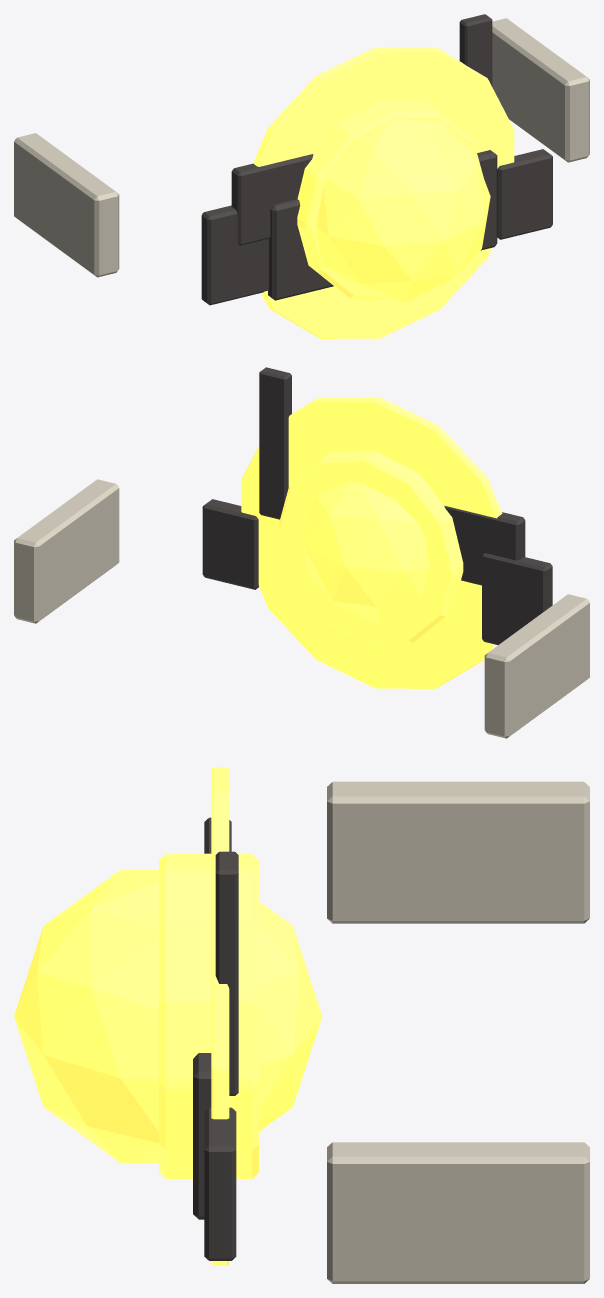
The model's file is hq_damage_common.glb.
The picture shows the model from 3 angles, top to bottom: view 1: azimuth 30°, elevation 25°; view 2: azimuth 150°, elevation 25°; view 3: azimuth 270°, elevation 25°; orthographic projection. The views are drawn at different scales.
Visible parts, largest first — view 1: CoreExposed, CoreHalo, Damage, Armor_L, Armor_R, CoreCover, Damage_03_Breach, Damage_03_Crack; view 2: CoreHalo, CoreCover, CoreExposed, Armor_L, Armor_R, Damage, Damage_03_Crack, Damage_03_Breach; view 3: CoreExposed, Armor_L, Armor_R, CoreCover, Damage, CoreHalo, Damage_03_Crack.
Boxes of the visible parts, <box> form: CoreExposed: <box>316,119,490,301</box>; CoreHalo: <box>253,47,514,338</box>; Damage: <box>201,149,552,305</box>; Armor_L: <box>14,133,119,277</box>; Armor_R: <box>492,18,589,162</box>; CoreCover: <box>297,101,483,299</box>; Damage_03_Breach: <box>231,154,313,245</box>; Damage_03_Crack: <box>459,14,492,86</box>; CoreHalo: <box>241,397,502,688</box>; CoreCover: <box>278,451,463,644</box>; CoreExposed: <box>302,481,429,622</box>; Armor_L: <box>484,594,589,738</box>; Armor_R: <box>14,479,119,623</box>; Damage: <box>202,499,552,644</box>; Damage_03_Crack: <box>259,367,291,519</box>; Damage_03_Breach: <box>444,505,525,585</box>; CoreExposed: <box>14,870,322,1162</box>; Armor_L: <box>327,781,589,923</box>; Armor_R: <box>327,1142,589,1283</box>; CoreCover: <box>159,853,258,1178</box>; Damage: <box>193,1053,236,1260</box>; CoreHalo: <box>211,767,229,1265</box>; Damage_03_Crack: <box>215,851,238,1095</box>.
Size of the model in its own units: 3.96 by 2.23 by 2.54.
